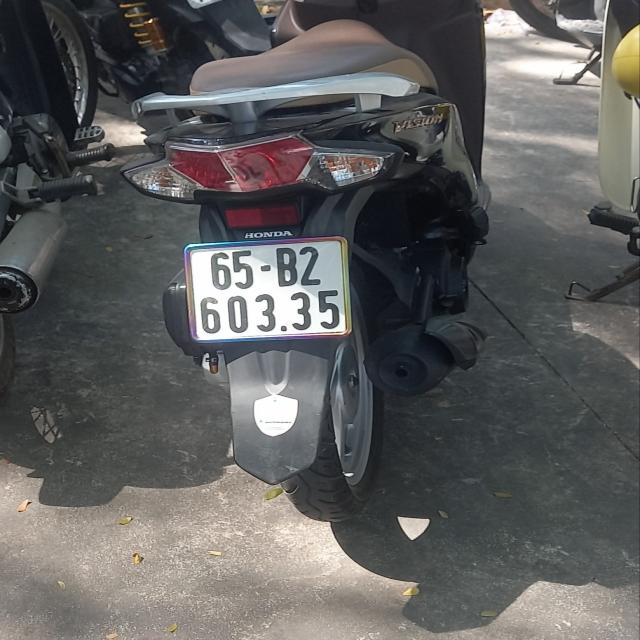0: (226, 295, 252, 334)
2: (298, 245, 322, 287)
3: (289, 291, 312, 330), (256, 294, 277, 332)
5: (232, 248, 256, 288), (317, 290, 341, 329)
6: (210, 252, 232, 290), (200, 296, 222, 334)
B: (275, 247, 298, 288)
